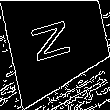N_E: (33, 16, 83, 67)
